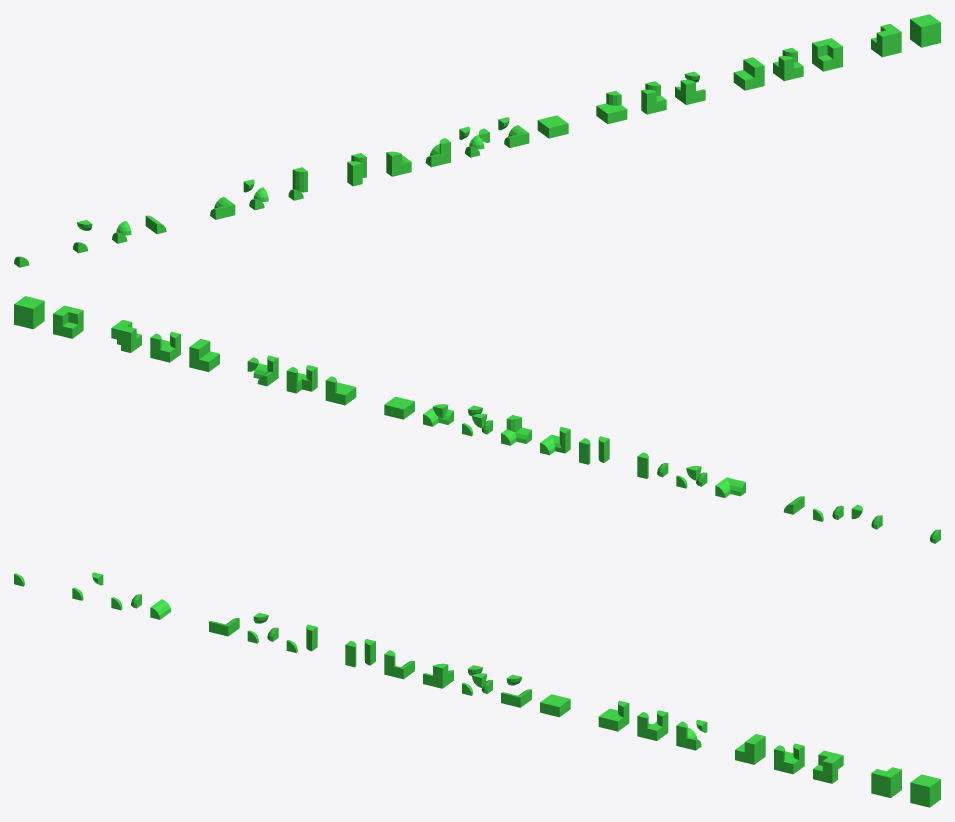
Rendered from MarchingCubes3.glb.
The picture shows the model from 3 angles, top to bottom: view 1: azimuth 30°, elevation 25°; view 2: azimuth 150°, elevation 25°; view 3: azimuth 330°, elevation 25°; orthographic projection.
Parts seen in each view (by area): view 1: 11010111.003, 11111111.003, 11111110.003, 11110110.003, 11111010.003, 11110010.003, 11011010.003, 11101010.003, 10101010.003, 11110000.003, 11100001.003; view 2: 11111110.003, 11111111.003, 11110110.003, 11111010.003, 11101010.003, 11010111.003, 11011010.003, 11110010.003, 11100100.003, 11101000.003, 10101010.003, 11110000.003 (+2 smaller); view 3: 11111111.003, 11111110.003, 11111010.003, 11010111.003, 11101010.003, 11110110.003, 11110010.003, 11011010.003, 10101010.003, 11100100.003, 11110000.003, 11101000.003 (+2 smaller).
Boxes of the visible parts, box(x1,y1,x2,y2) form: 11010111.003: box(812, 38, 842, 71); 11111111.003: box(910, 14, 940, 47); 11111110.003: box(871, 24, 901, 57); 11110110.003: box(733, 57, 764, 90); 11111010.003: box(773, 47, 803, 81); 11110010.003: box(596, 91, 627, 123); 11011010.003: box(675, 71, 705, 104); 11101010.003: box(641, 81, 666, 114); 10101010.003: box(347, 153, 366, 186); 11110000.003: box(537, 115, 568, 138); 11100001.003: box(498, 117, 529, 147); 11111110.003: box(53, 305, 83, 338); 11111111.003: box(14, 296, 44, 329); 11110110.003: box(189, 339, 219, 371); 11111010.003: box(150, 331, 180, 362); 11101010.003: box(286, 365, 317, 393); 11010111.003: box(111, 320, 141, 352); 11011010.003: box(247, 355, 278, 386); 11110010.003: box(325, 376, 356, 405); 11100100.003: box(501, 415, 531, 445); 11101000.003: box(540, 427, 570, 455); 10101010.003: box(579, 436, 609, 464); 11110000.003: box(384, 396, 414, 419); 11111111.003: box(910, 774, 940, 807); 11111110.003: box(871, 767, 901, 797); 11111010.003: box(774, 743, 804, 774); 11010111.003: box(813, 750, 843, 783); 11101010.003: box(637, 710, 668, 740); 11110110.003: box(735, 734, 765, 764); 11110010.003: box(598, 700, 629, 731); 11011010.003: box(676, 719, 707, 750); 10101010.003: box(345, 639, 375, 667); 11100100.003: box(423, 663, 453, 688); 11110000.003: box(540, 694, 570, 717); 11101000.003: box(384, 650, 414, 679).
Size of the model in its own units: 47 by 1 by 1.
